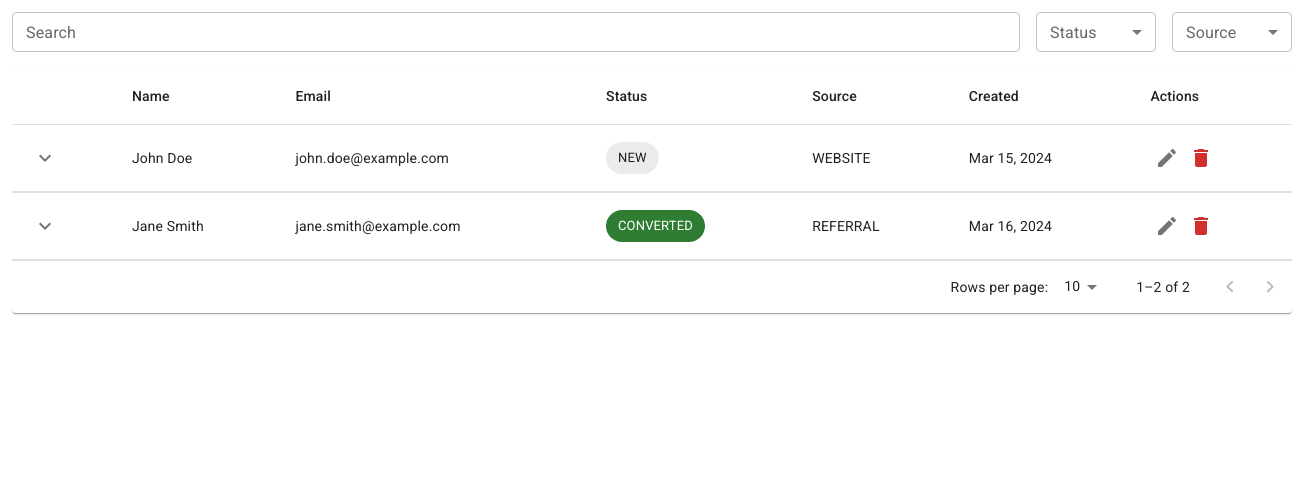
Test: LeadList › expands lead details on click
Note: Click expand button for first lead
Click the button named "expand row" in the row of "john.doe@example.com" at {"x": 45, "y": 158}, box x1=28 y1=141 x2=62 y2=175
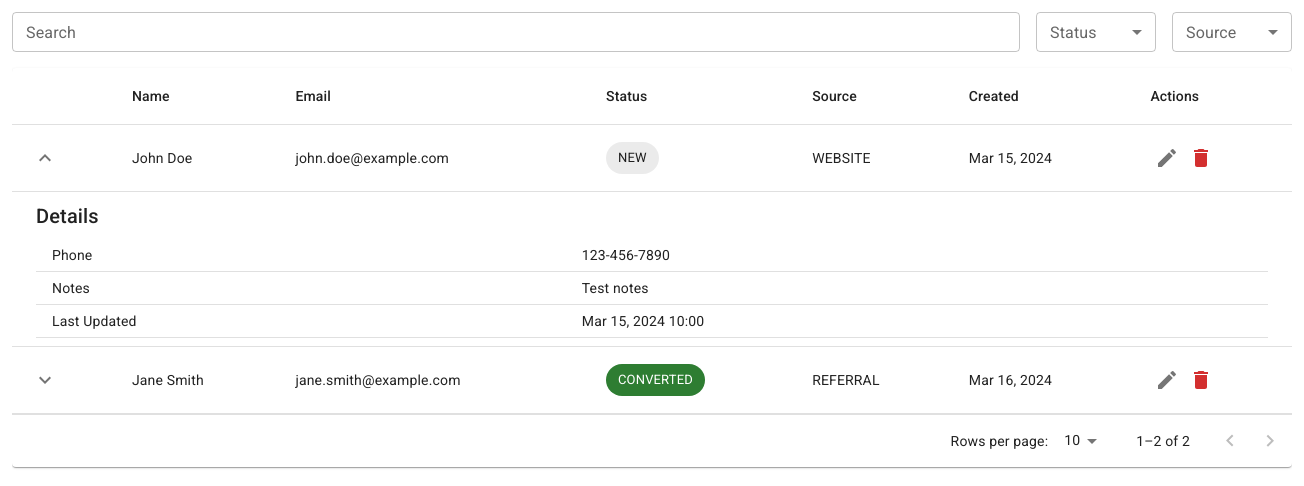
Now the text "123-456-7890" is shown, box x1=566 y1=239 x2=1268 y2=272
Now the text "Test notes" is shown, box x1=566 y1=272 x2=1268 y2=304
